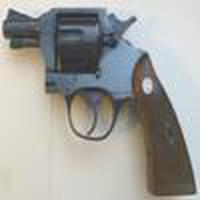gun: (1, 7, 198, 200)
